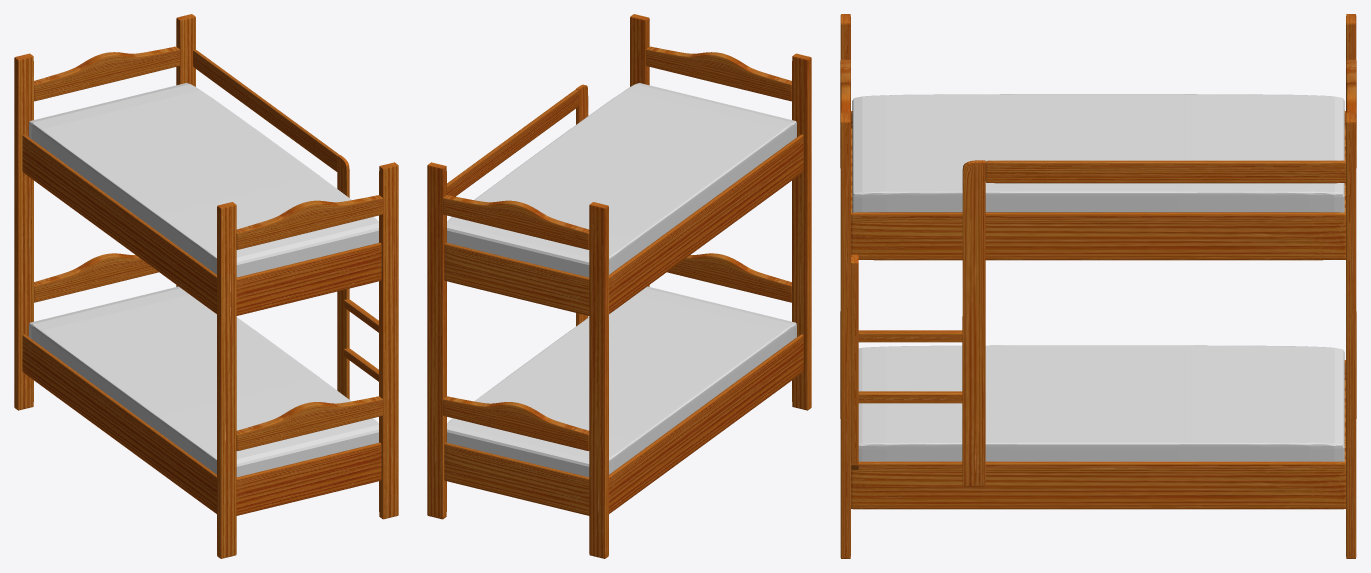
Rendered from ranza.fbx.
3 views of the same model, side by side, from view 1: azimuth 30°, elevation 25°; view 2: azimuth 150°, elevation 25°; view 3: azimuth 270°, elevation 25° (orthographic). The views are drawn at different scales.
Parts seen in each view (by area): view 1: Cube.014, Cube.015, Cube.011, Cube.004, Cube, Cube.001, Cube.003, Cube.009, Cube.006, Cube.021, Cube.018, Cube.022 (+4 smaller); view 2: Cube.014, Cube.015, Cube.011, Cube.004, Cube.003, Cube.002, Cube, Cube.007, Cube.008, Cube.017, Cube.022, Cube.021 (+4 smaller); view 3: Cube.015, Cube.014, Cube.005, Cube.010, Cube.020, Cube.019, Cube.001, Cube.002, Cube.016, Cube.023, Cube.024, Cube.022 (+1 smaller).
Boxes of the visible parts, x1,y1,x2,y2 form: Cube.014: [29, 83, 378, 277]; Cube.015: [29, 286, 378, 477]; Cube.011: [22, 134, 216, 313]; Cube.004: [22, 334, 216, 513]; Cube: [217, 202, 236, 558]; Cube.001: [379, 162, 398, 519]; Cube.003: [14, 53, 33, 410]; Cube.009: [236, 243, 381, 315]; Cube.006: [236, 442, 381, 515]; Cube.021: [236, 195, 382, 249]; Cube.018: [236, 396, 382, 450]; Cube.022: [34, 46, 179, 101]; Cube.014: [447, 83, 796, 277]; Cube.015: [447, 286, 796, 477]; Cube.011: [609, 134, 803, 313]; Cube.004: [609, 334, 803, 513]; Cube.003: [589, 202, 608, 558]; Cube.002: [427, 162, 446, 519]; Cube: [792, 53, 811, 410]; Cube.007: [444, 442, 589, 515]; Cube.008: [444, 243, 589, 315]; Cube.017: [442, 396, 589, 450]; Cube.022: [442, 195, 589, 249]; Cube.021: [646, 46, 791, 101]; Cube.015: [858, 345, 1344, 461]; Cube.014: [852, 94, 1344, 212]; Cube.005: [851, 461, 1345, 509]; Cube.010: [851, 212, 1345, 260]; Cube.020: [985, 160, 1345, 183]; Cube.019: [962, 160, 985, 486]; Cube.001: [840, 112, 850, 558]; Cube.002: [1346, 112, 1356, 558]; Cube.016: [851, 254, 858, 469]; Cube.023: [858, 330, 962, 342]; Cube.024: [858, 391, 962, 403]; Cube.022: [1346, 59, 1356, 167].
Bounding box in the file's own units: 99 × 186 × 199.
Materials: 2 (2 with a texture image).
